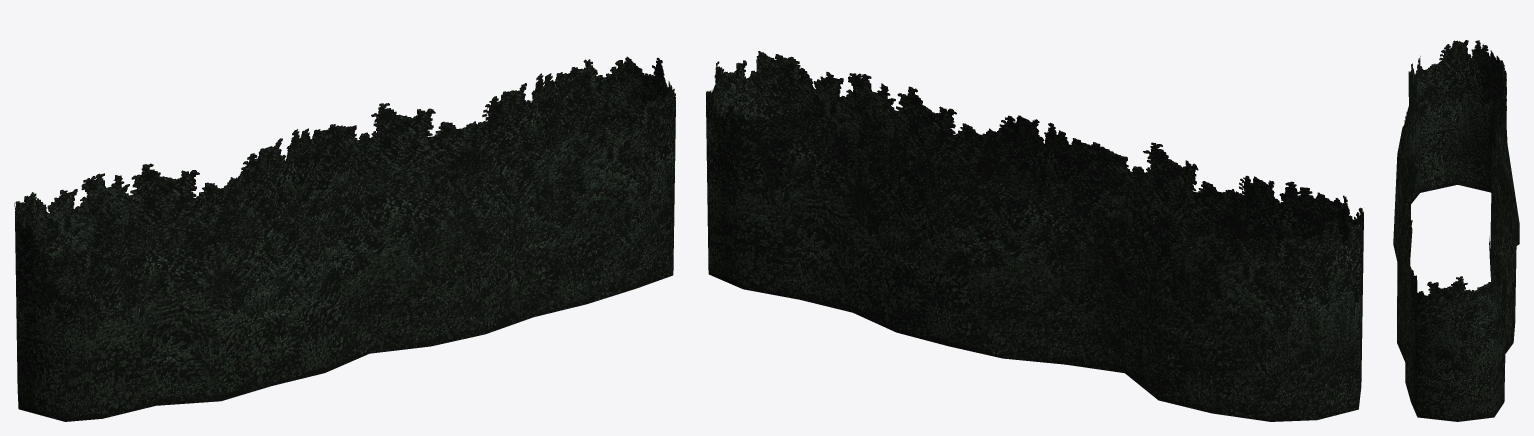
The model's file is SM_EC_ScrubLine_3.fbx.
3 renders of one model, left to right at view 1: azimuth 30°, elevation 25°; view 2: azimuth 150°, elevation 25°; view 3: azimuth 270°, elevation 25°, orthographic. The views are drawn at different scales.
Parts seen in each view (by area): view 1: SM_EC_ScrubLine_3; view 2: SM_EC_ScrubLine_3; view 3: SM_EC_ScrubLine_3.
Boxes of the visible parts, <box> form: SM_EC_ScrubLine_3: <box>14,56,675,421</box>; SM_EC_ScrubLine_3: <box>706,51,1363,421</box>; SM_EC_ScrubLine_3: <box>1393,40,1519,421</box>.
Size of the model in its own units: 12.13 by 2.7 by 4.
